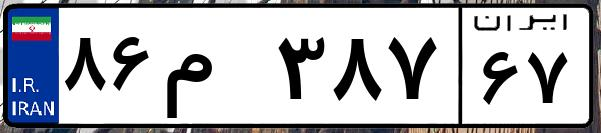3: (270, 28, 330, 110)
6: (475, 38, 525, 113), (110, 28, 158, 98)
7: (385, 28, 445, 110), (525, 38, 570, 115)
8: (330, 28, 385, 110), (57, 26, 110, 100)
م: (158, 20, 270, 120)
